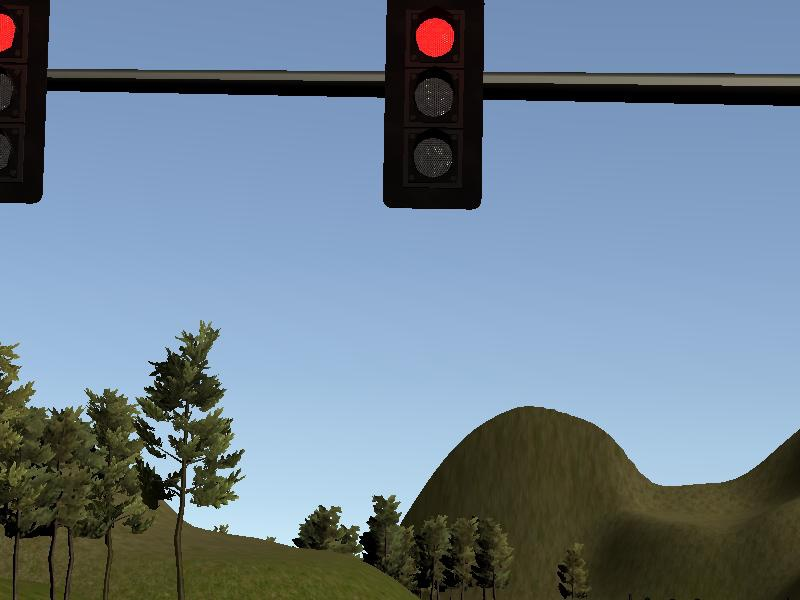red_light: (385, 2, 484, 208)
